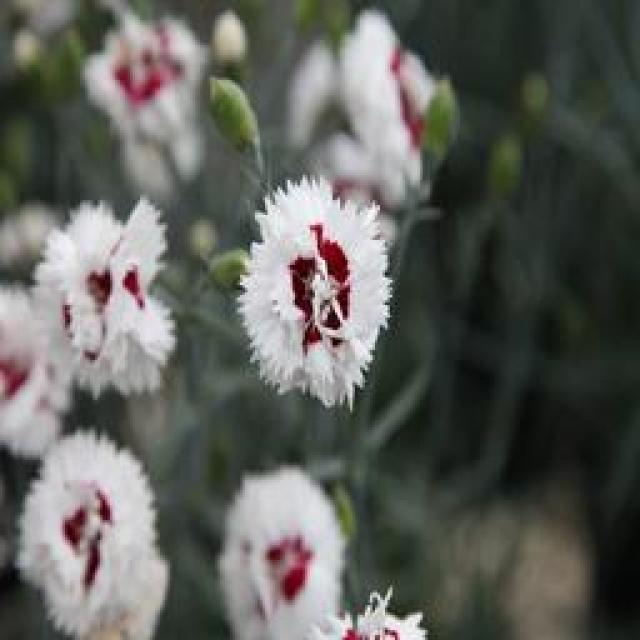carnation: (229, 169, 412, 416)
